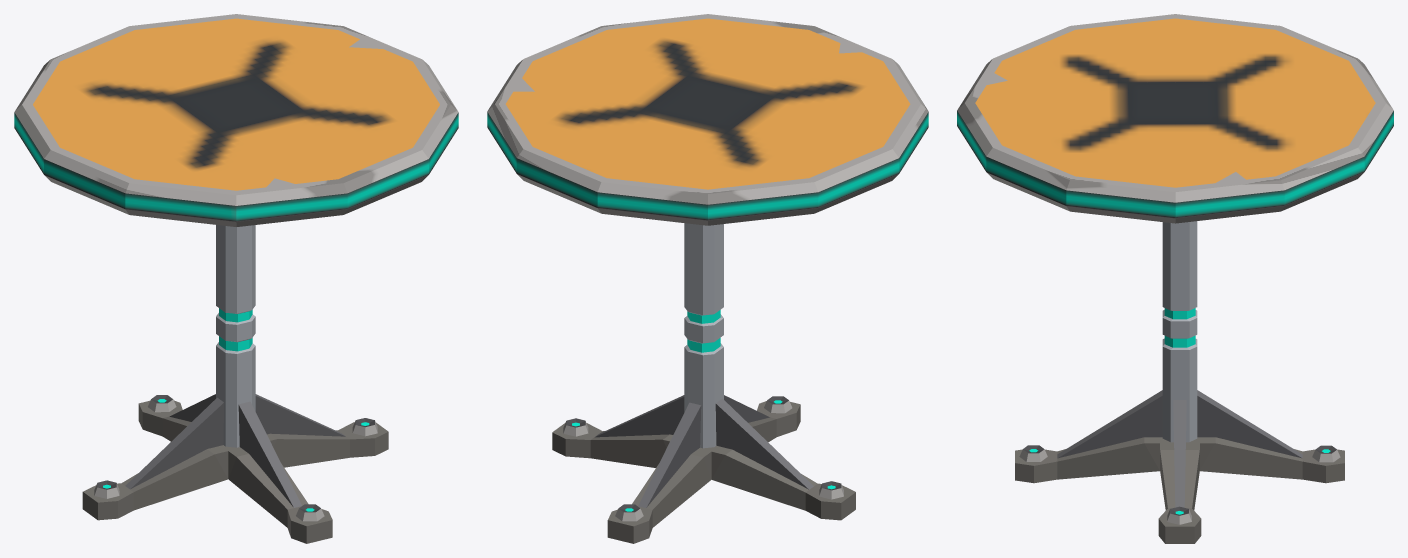
Rendered from SM_Prop_Small_Table_01.fbx.
The picture shows the model from 3 angles, left to right: view 1: azimuth 30°, elevation 25°; view 2: azimuth 150°, elevation 25°; view 3: azimuth 270°, elevation 25°; orthographic projection.
Visible parts, largest first — view 1: SM_Prop_Small_Table_01; view 2: SM_Prop_Small_Table_01; view 3: SM_Prop_Small_Table_01.
Part boxes in pixels (box(x1,y1,x2,y2)): SM_Prop_Small_Table_01: box(14, 14, 458, 543); SM_Prop_Small_Table_01: box(487, 14, 928, 543); SM_Prop_Small_Table_01: box(957, 14, 1393, 543).
Size of the model in its own units: 120 by 112 by 120.
